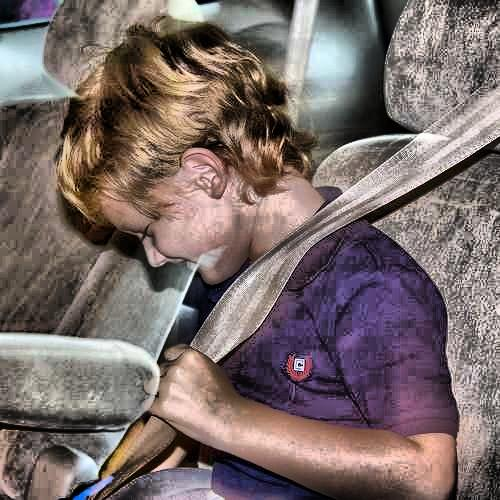seatbelt: (120, 107, 486, 438)
